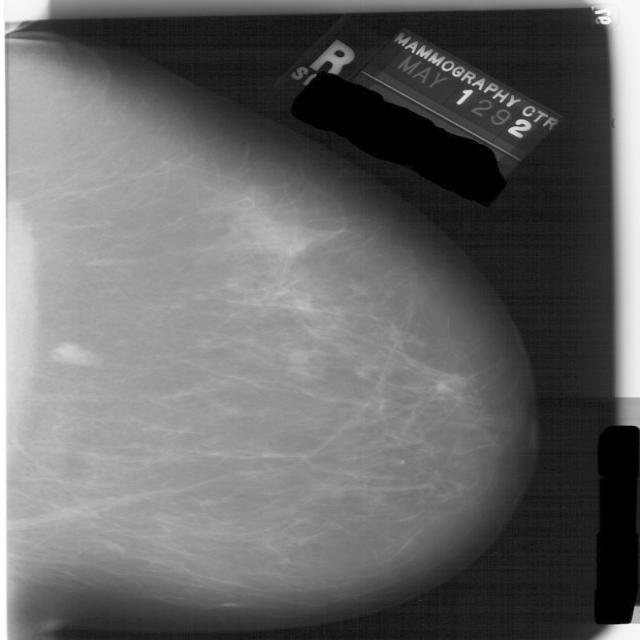tumour: (50, 340, 98, 366)
